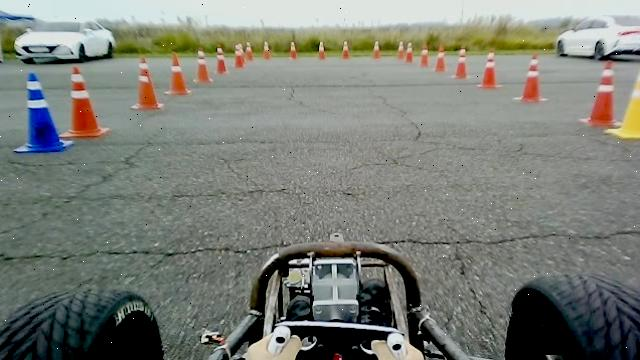blue cone: (12, 71, 74, 153)
red cone: (57, 65, 110, 138), (578, 59, 621, 126), (130, 55, 163, 110), (514, 52, 548, 102), (163, 50, 191, 94), (476, 48, 502, 88), (192, 50, 212, 84), (452, 46, 467, 78), (434, 43, 447, 72), (216, 48, 228, 74), (418, 42, 428, 66), (404, 41, 414, 62), (233, 50, 244, 68), (317, 40, 326, 60), (262, 40, 270, 60), (341, 41, 350, 58), (372, 40, 380, 57), (396, 40, 404, 57), (289, 42, 297, 58), (245, 42, 252, 60)
